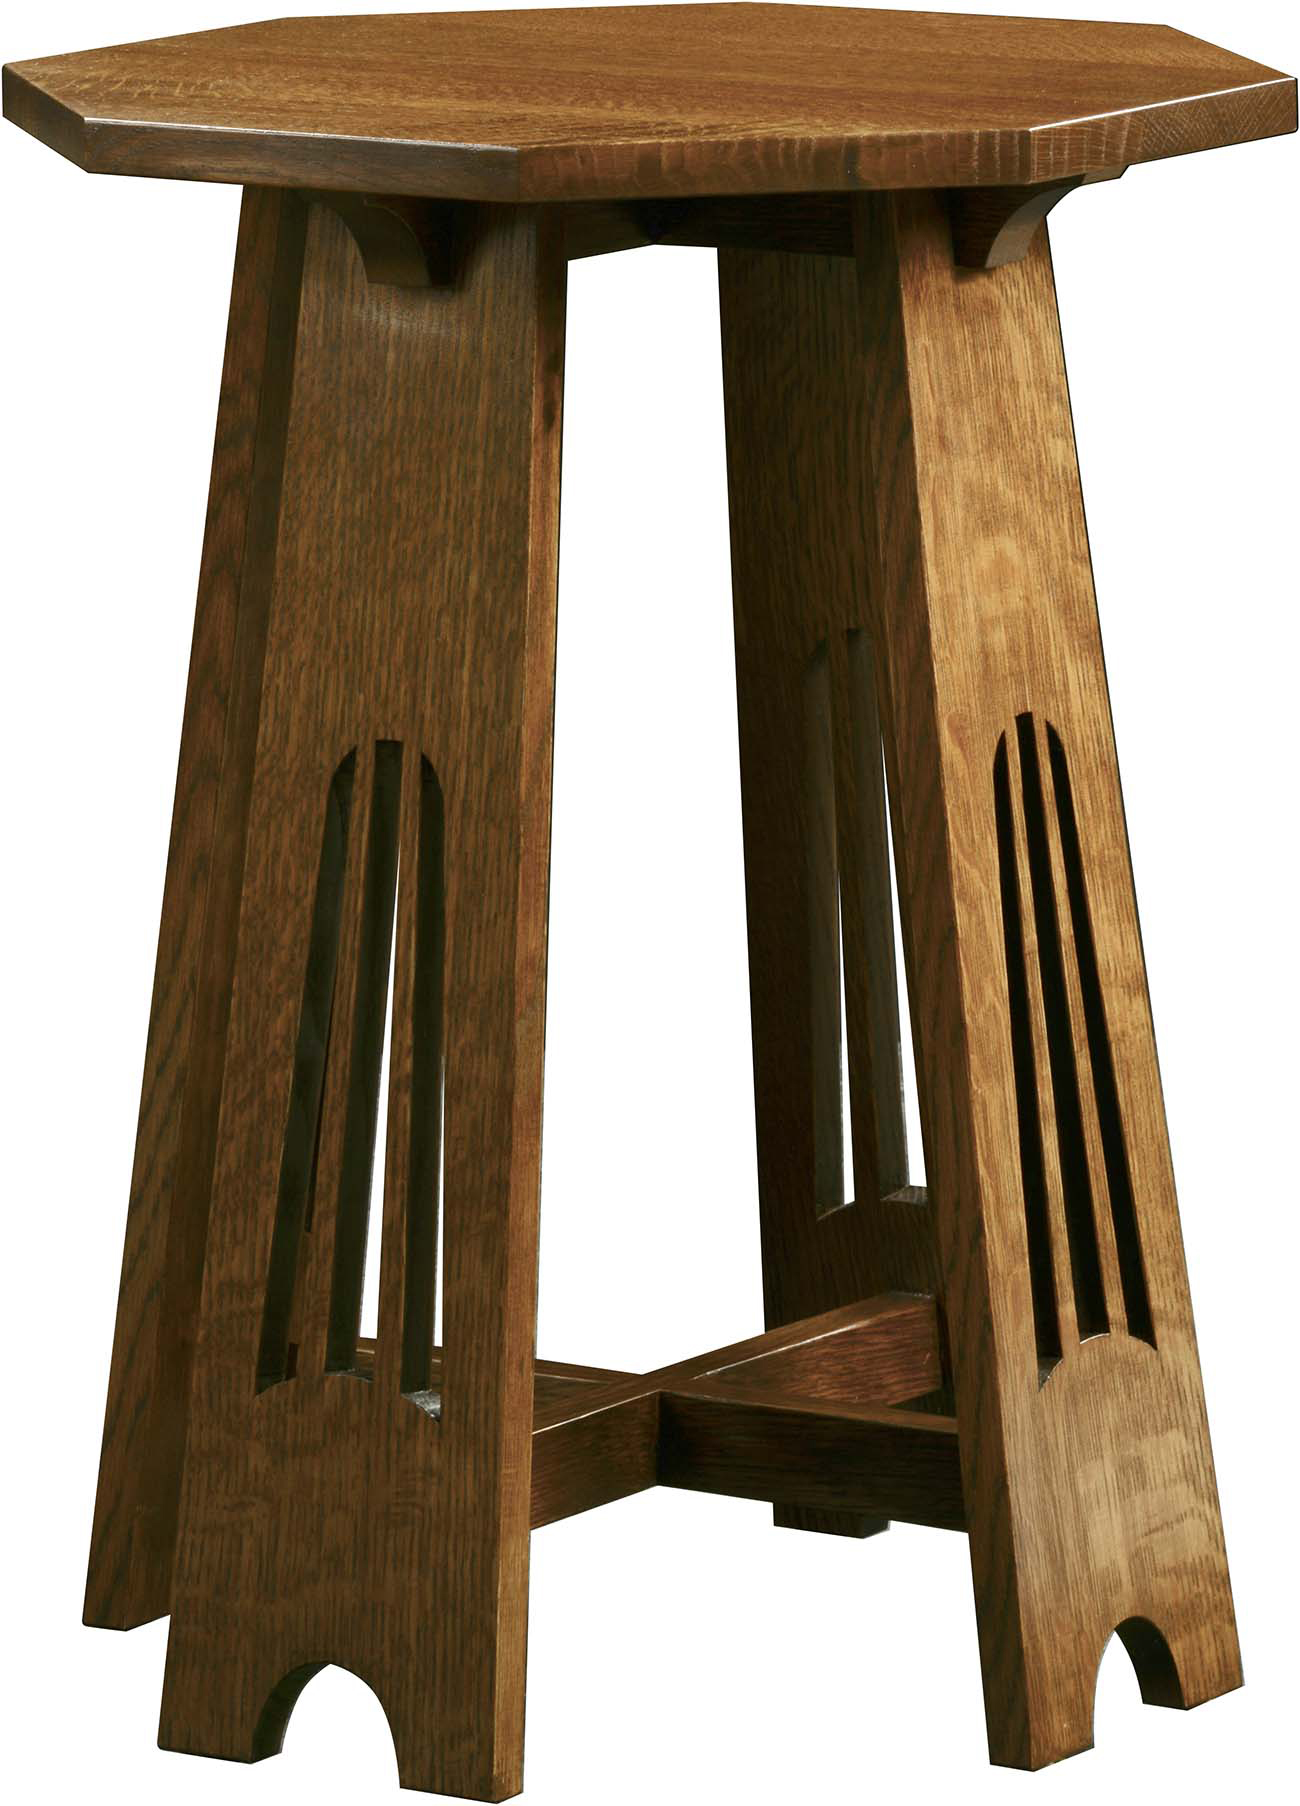meja: (10, 18, 1293, 1761)
